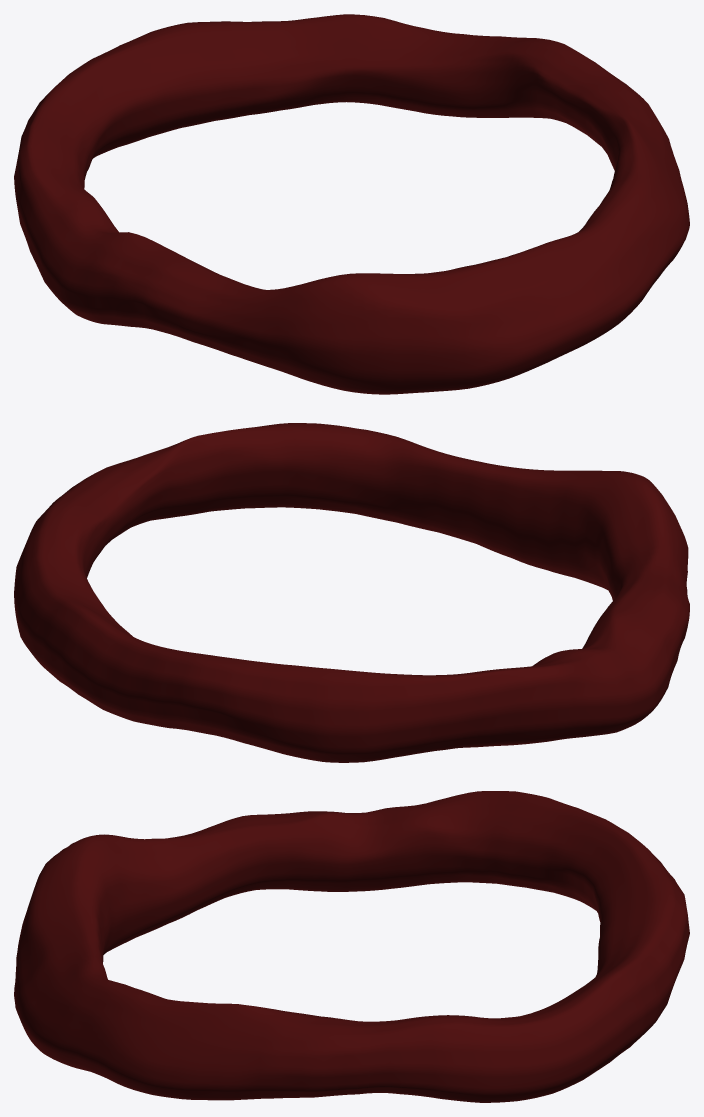
File: evil_snow.fbx
3 views of the same model, one above another, from view 1: azimuth 30°, elevation 25°; view 2: azimuth 150°, elevation 25°; view 3: azimuth 270°, elevation 25° (orthographic). The views are drawn at different scales.
Parts seen in each view (by area): view 1: snow; view 2: snow; view 3: snow.
Boxes of the visible parts, x1,y1,x2,y2 form: snow: (14, 14, 689, 394); snow: (14, 423, 689, 762); snow: (14, 791, 689, 1102).
Bounding box in the file's own units: 552 × 121 × 567.
